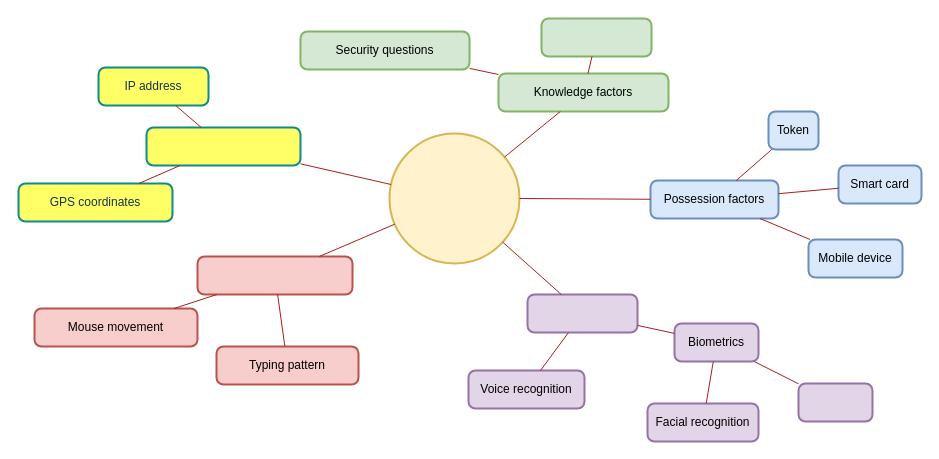
The diagram is 939 pixels wide and 459 high, and some of its shapes have lost their labels. The shapes that lost their labels are listed below. From the top down, each one's centre as x and y in pixels, then its label:
At point (596, 37): "Passwords".
At point (223, 146): "Location factors".
At point (454, 198): "Risk based authentication factor types".
At point (274, 275): "Behavior factors".
At point (582, 313): "Inherence factors".
At point (835, 402): "Fingerprint".
